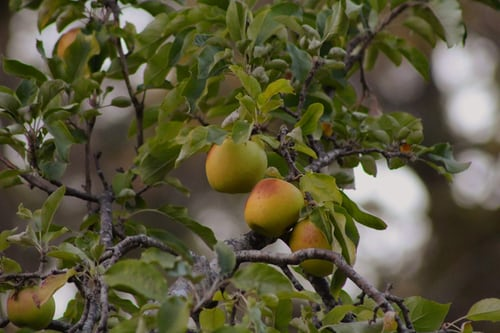apple: (202, 135, 269, 195), (242, 177, 307, 238), (287, 212, 335, 278)
